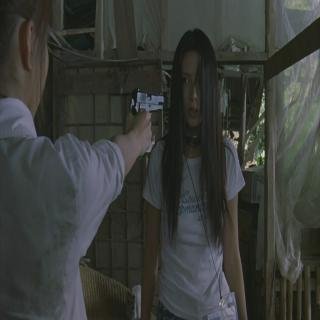gun: (128, 86, 166, 163)
